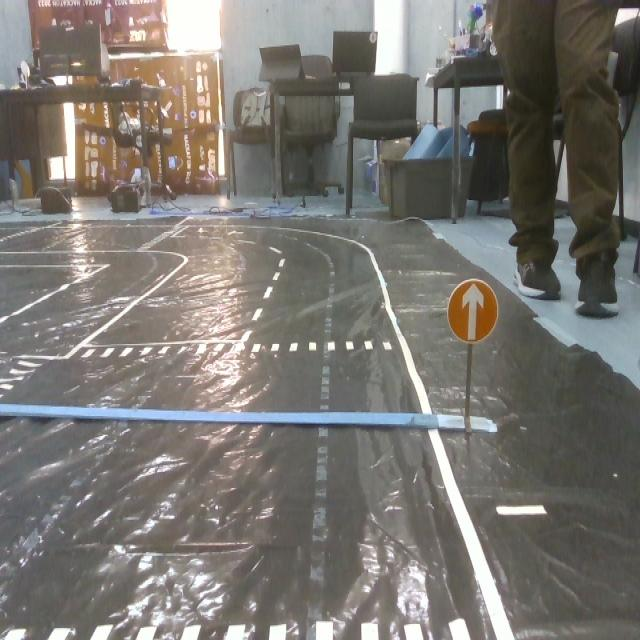right_turn: (452, 273, 510, 348)
